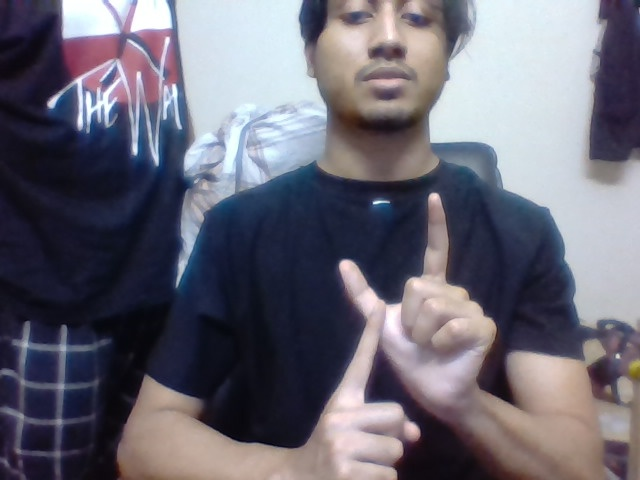Y: (329, 189, 456, 392)
